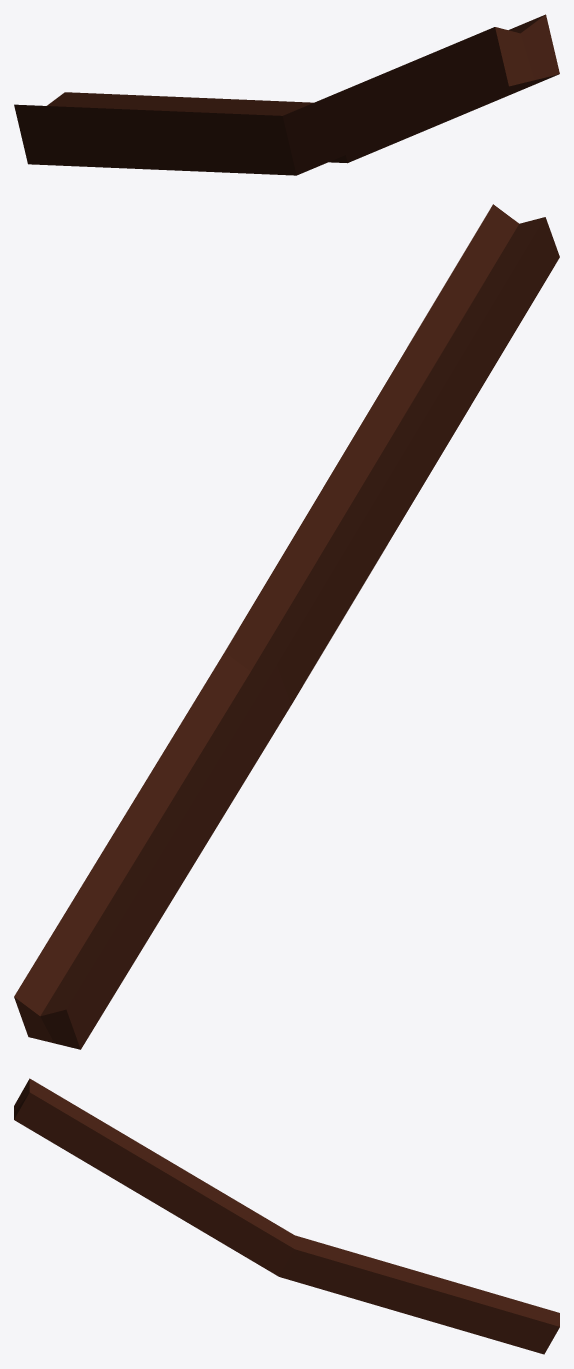
The model's file is DirtField_low.FBX.
3 views of the same model, one above another, from view 1: azimuth 30°, elevation 25°; view 2: azimuth 150°, elevation 25°; view 3: azimuth 270°, elevation 25° (orthographic). The views are drawn at different scales.
Parts seen in each view (by area): view 1: Box074; view 2: Box074; view 3: Box074.
Part boxes in pixels (x1=…): Box074: x1=14, y1=14, x2=559, y2=175; Box074: x1=14, y1=204, x2=559, y2=1049; Box074: x1=14, y1=1078, x2=559, y2=1354.
Size of the model in its own units: 0.9577 by 5.21 by 9.76.
